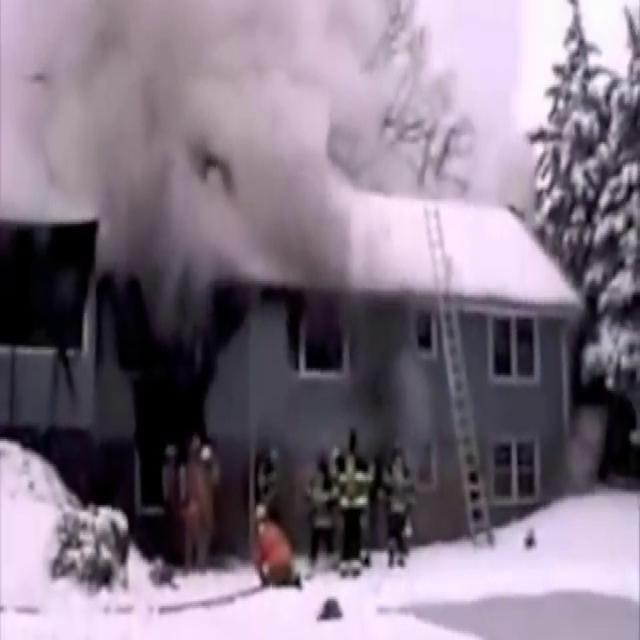Smoke: (1, 0, 444, 285), (331, 264, 442, 472)
